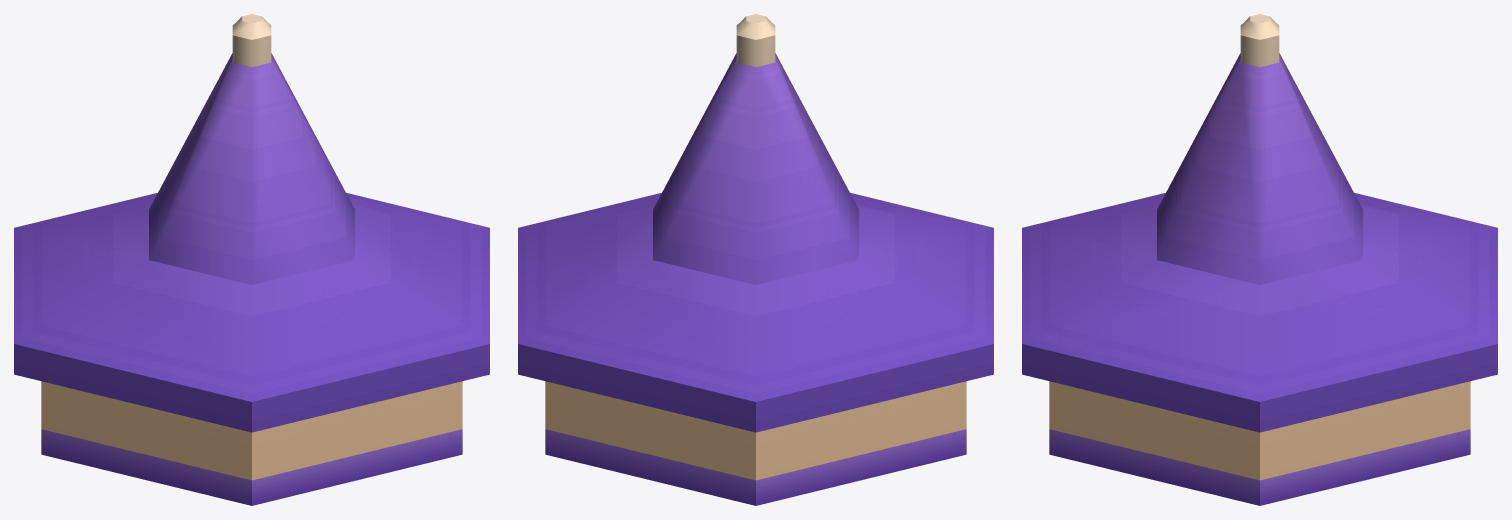
The model's file is tower-hexagon-roof-secondary.glb.
3 views of the same model, side by side, from view 1: azimuth 30°, elevation 25°; view 2: azimuth 150°, elevation 25°; view 3: azimuth 270°, elevation 25° (orthographic).
Visible parts, largest first — view 1: tower-hexagon-roof-secondary; view 2: tower-hexagon-roof-secondary; view 3: tower-hexagon-roof-secondary.
Part boxes in pixels (box(x1,y1,x2,y2)): tower-hexagon-roof-secondary: box(14, 14, 489, 505); tower-hexagon-roof-secondary: box(518, 14, 993, 505); tower-hexagon-roof-secondary: box(1022, 14, 1497, 505).
Size of the model in its own units: 0.9763 by 0.7537 by 0.8455.
